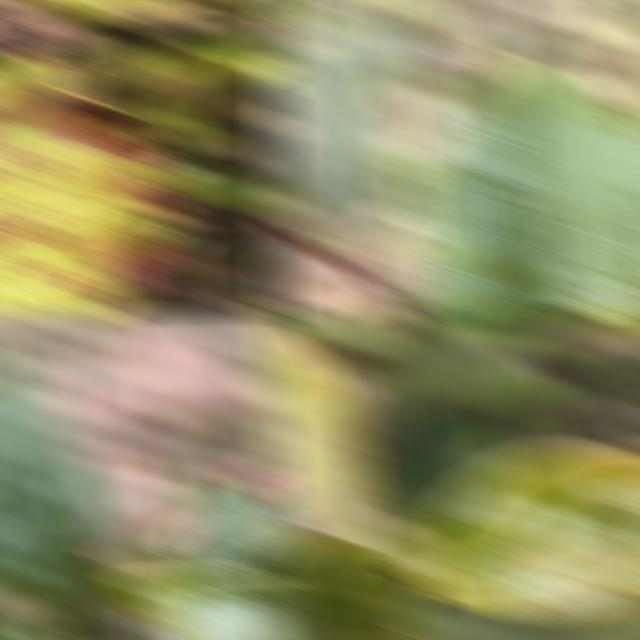Leaf: (402, 57, 640, 316), (0, 27, 170, 316), (410, 442, 640, 619), (0, 351, 117, 640), (274, 1, 407, 252), (116, 475, 286, 640), (264, 320, 373, 544), (364, 399, 517, 531), (264, 526, 421, 640), (110, 37, 240, 152), (402, 593, 640, 640), (150, 20, 286, 80), (264, 310, 398, 354), (164, 169, 286, 212), (178, 435, 238, 519), (71, 33, 167, 79), (24, 0, 193, 22), (0, 607, 69, 640)
